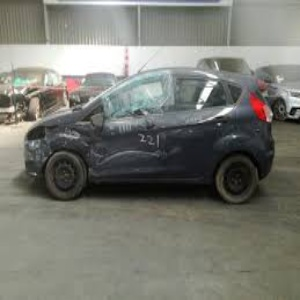door_scratch: (96, 123, 182, 179)
